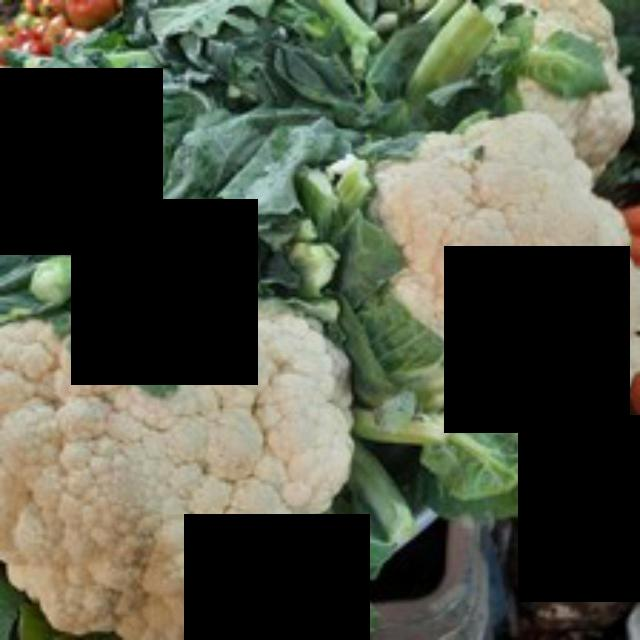cauliflower: (0, 248, 388, 637), (357, 111, 637, 448)
